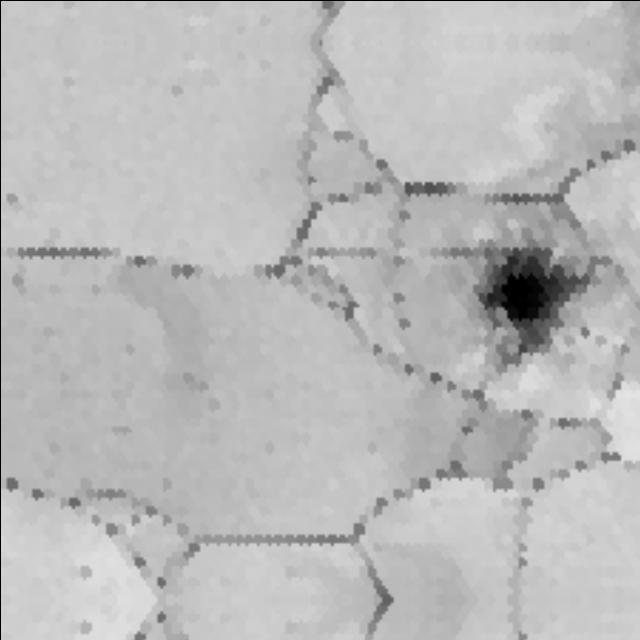good_void: (472, 230, 604, 369), (2, 183, 25, 206), (10, 271, 30, 291)
